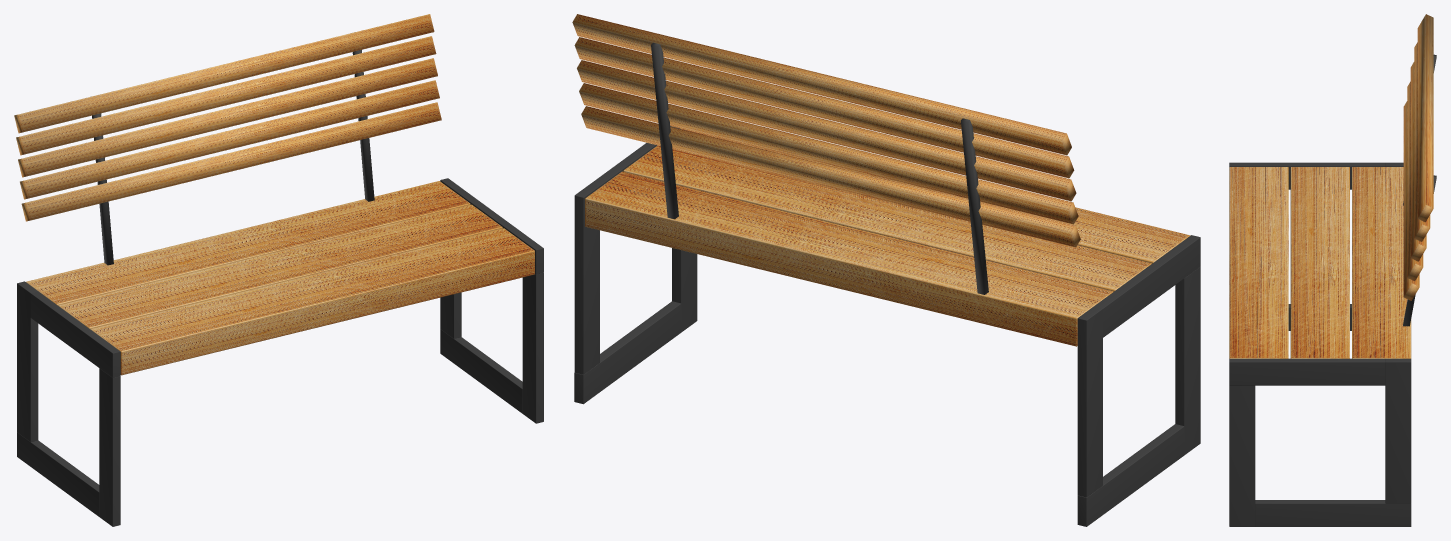
The model's file is banco.fbx.
3 renders of one model, left to right at view 1: azimuth 30°, elevation 25°; view 2: azimuth 150°, elevation 25°; view 3: azimuth 270°, elevation 25°, orthographic. The views are drawn at different scales.
Parts seen in each view (by area): view 1: Würfel.1.3, Würfel.1.001; view 2: Würfel.1.3, Würfel.1.001; view 3: Würfel.1.3, Würfel.1.001.
Part boxes in pixels (<box>): Würfel.1.3: <box>14,14,534,375</box>; Würfel.1.001: <box>17,49,543,526</box>; Würfel.1.3: <box>572,14,1190,346</box>; Würfel.1.001: <box>574,42,1200,526</box>; Würfel.1.3: <box>1229,14,1433,358</box>; Würfel.1.001: <box>1229,54,1436,526</box>.
Bounding box in the file's own units: 143 × 106 × 62.76.
Materials: 2 (1 with a texture image).
